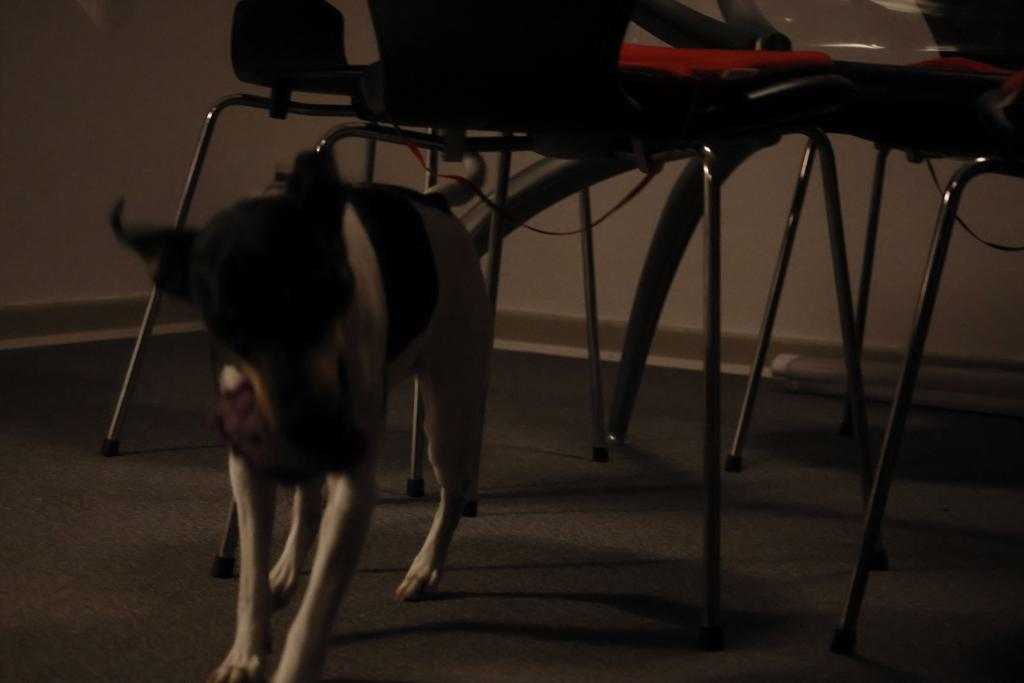Dog: (92, 146, 495, 683)
